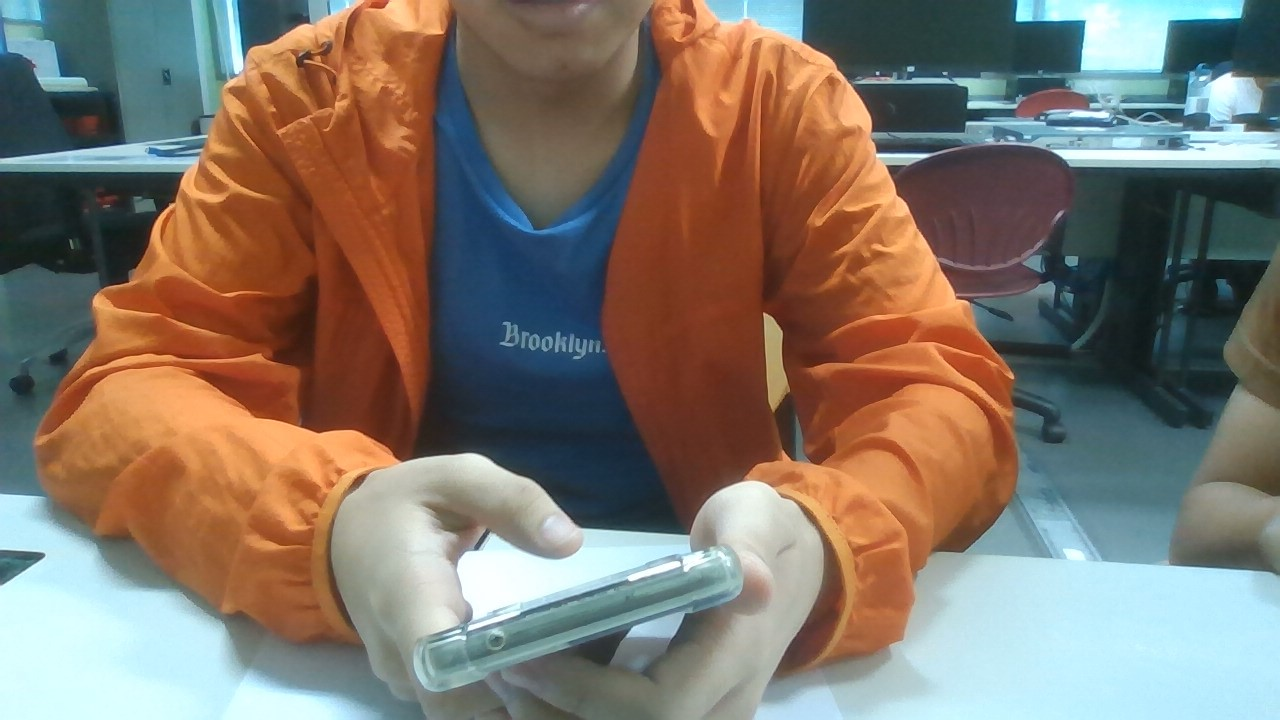phone: (413, 542, 744, 694)
